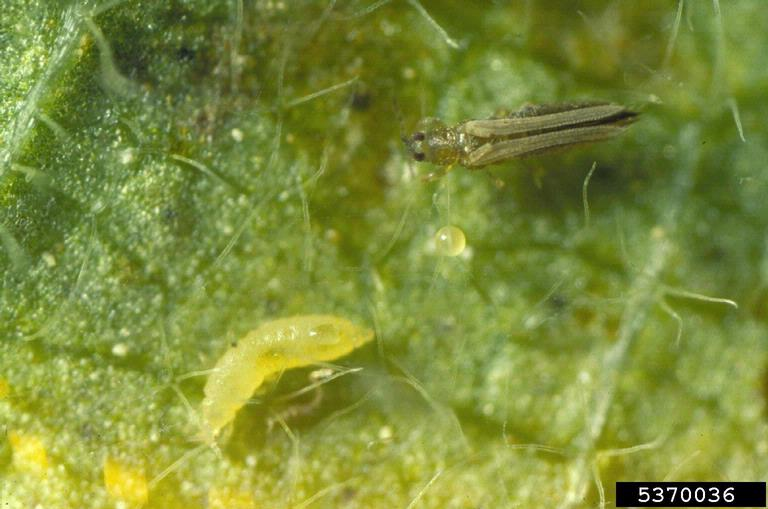Thrips: (396, 74, 665, 204), (178, 301, 378, 462)
